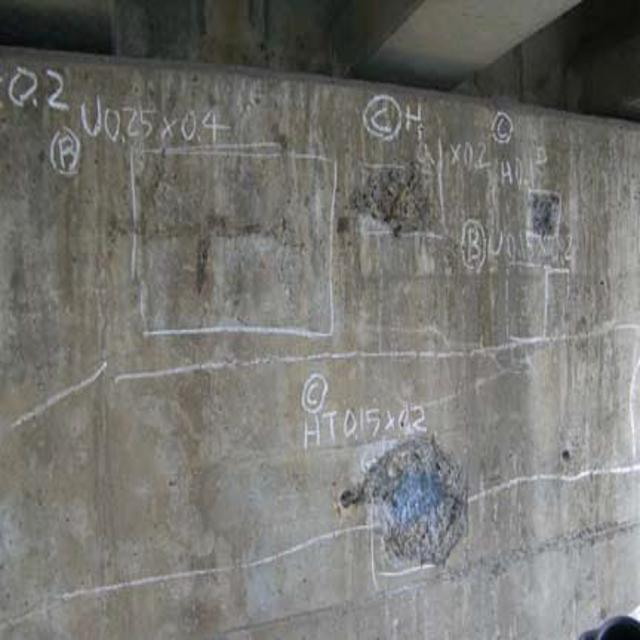spalling: (346, 407, 470, 576), (346, 154, 446, 252), (514, 180, 576, 256)
